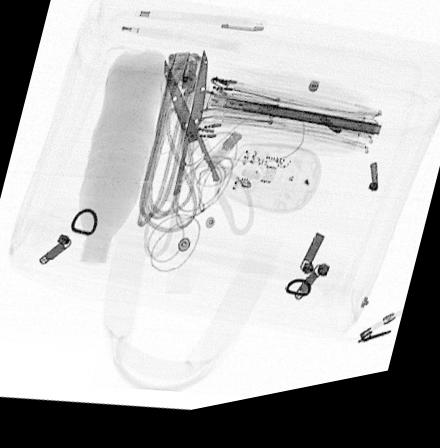Scissors: (142, 55, 255, 266)
